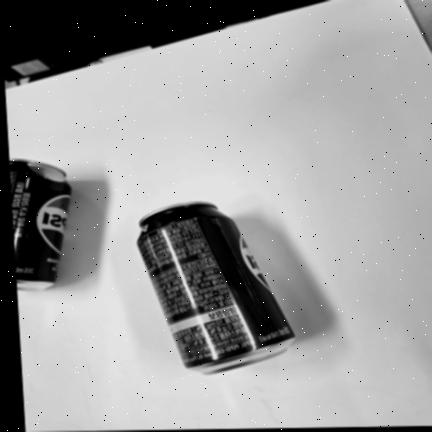can_pepsi: (134, 205, 293, 375)
can_pepsi_zero: (10, 158, 77, 293)
